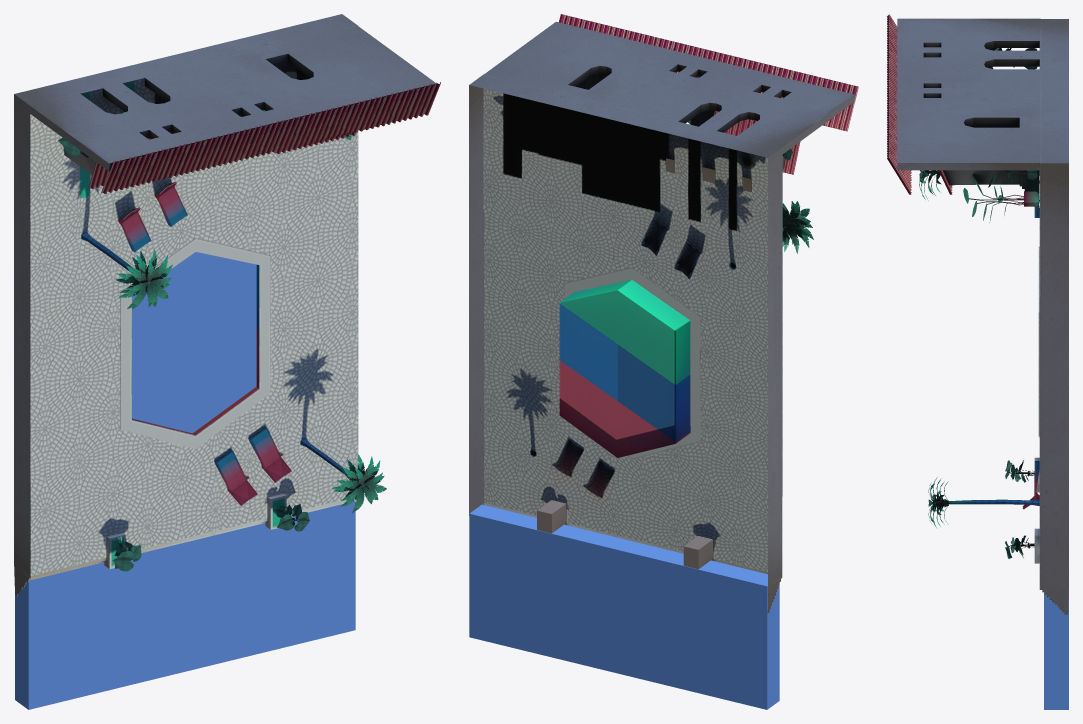
File: SparkVilla.gltf
3 views of the same model, side by side, from view 1: azimuth 30°, elevation 25°; view 2: azimuth 150°, elevation 25°; view 3: azimuth 270°, elevation 25° (orthographic). The views are drawn at different scales.
Parts seen in each view (by area): view 1: Villa; view 2: Villa; view 3: Villa.
Boxes of the visible parts, x1,y1,x2,y2 form: Villa: (14, 14, 440, 709); Villa: (469, 14, 858, 709); Villa: (887, 14, 1068, 709).
Size of the model in its own units: 0.3002 by 0.5346 by 0.1598.
Materials: 2 (1 with a texture image).
